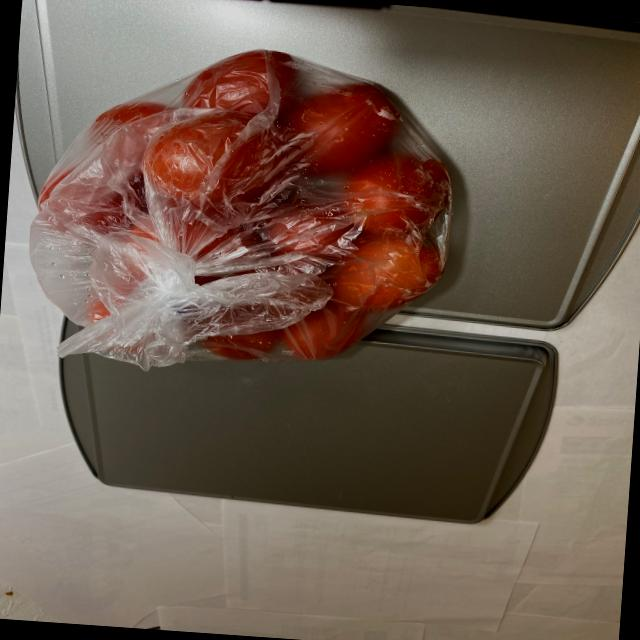tomato: (32, 43, 469, 381)
